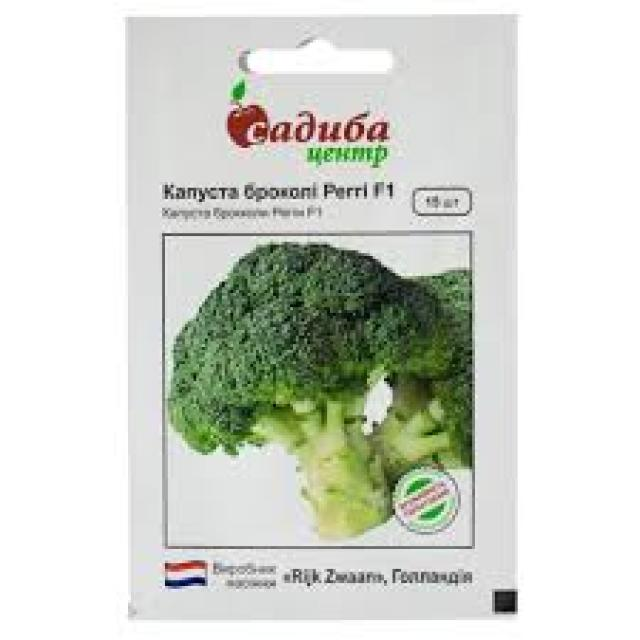broccoli: (166, 244, 492, 527)
